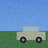vehicle: (17, 26, 45, 43)
